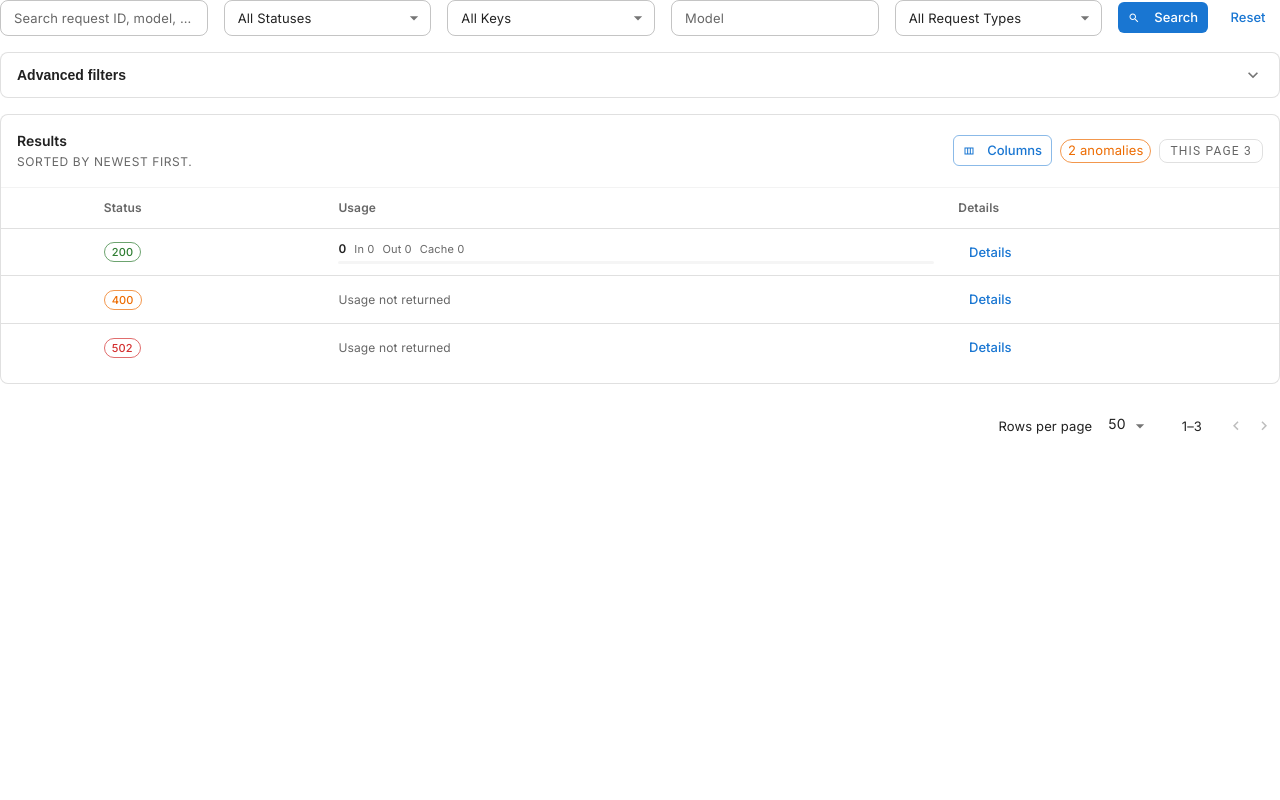
Test case: submitted server log queries › distinguishes observed zero from missing usage and provides explicit status/detail actions
The image size is (1280, 800).
Expected: the number of rows is 4, [1,188,1279,229]; [1,229,1279,276]; [1,276,1279,324]; [1,324,1279,371]
Expected: the text "200" is shown, [112,245,133,259]
Click the button with aria-label "client-error details": click(990, 300) [958,284,1022,315]
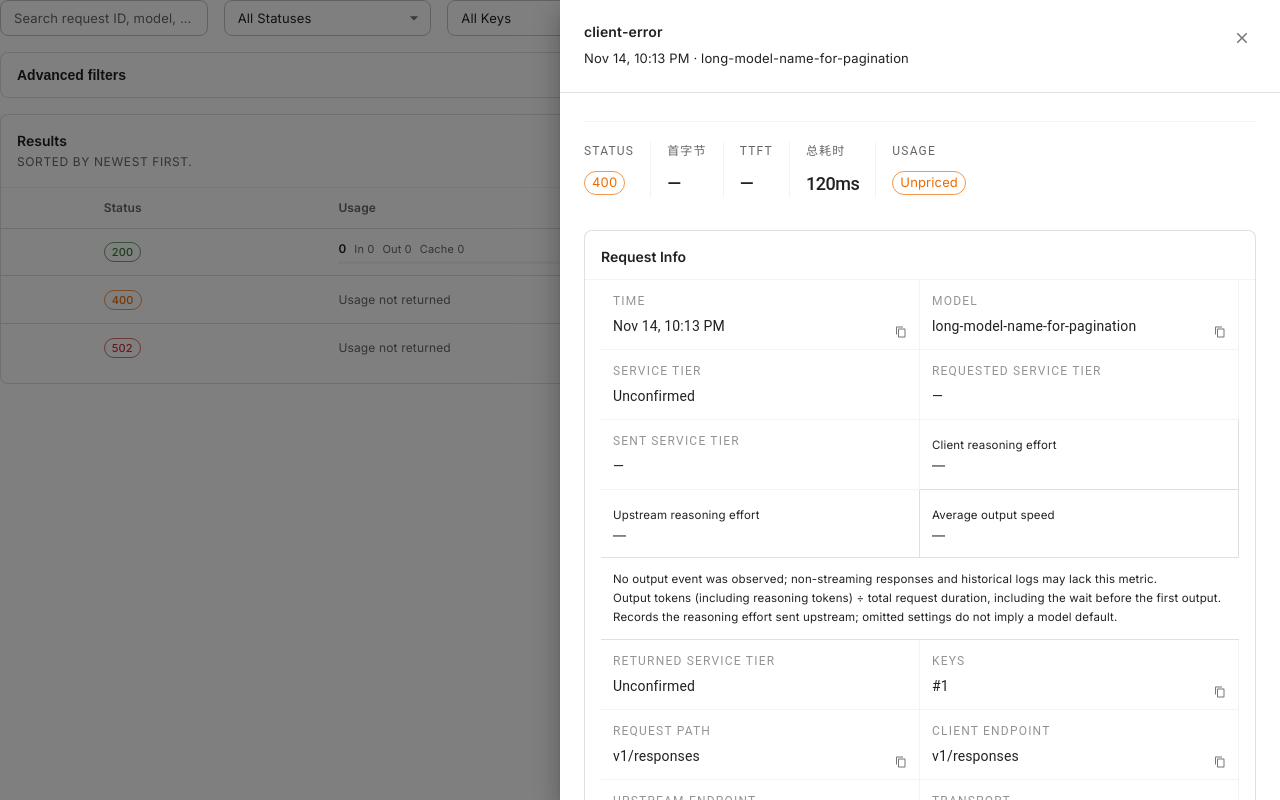
Result: the dialog "client-error" is shown at [560,0,1279,799]
